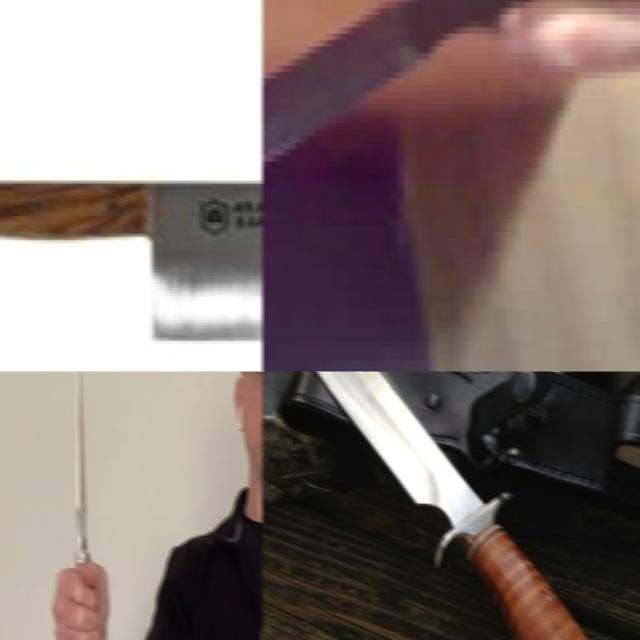Knife: (315, 371, 590, 640), (0, 182, 262, 338)
Knife_Handle: (262, 0, 640, 222), (50, 371, 111, 640)
